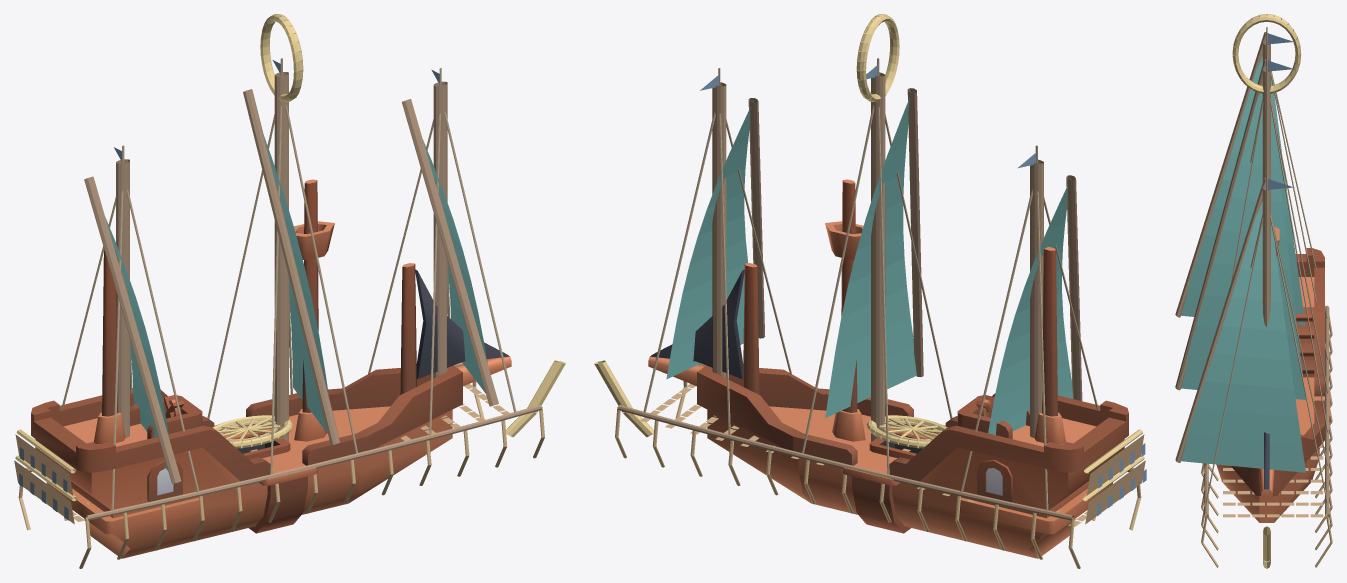
File: lemuria_scout-custom.glb
3 views of the same model, side by side, from view 1: azimuth 30°, elevation 25°; view 2: azimuth 150°, elevation 25°; view 3: azimuth 270°, elevation 25° (orthographic). The views are drawn at different scales.
Visible parts, largest first — view 1: ship-pirate-medium, lemuria_scout-custom-geometry; view 2: lemuria_scout-custom-geometry, ship-pirate-medium; view 3: lemuria_scout-custom-geometry, ship-pirate-medium.
Boxes of the visible parts, bbox=[...] form: ship-pirate-medium: bbox=[31, 179, 511, 558]; lemuria_scout-custom-geometry: bbox=[14, 14, 565, 568]; lemuria_scout-custom-geometry: bbox=[594, 14, 1146, 568]; ship-pirate-medium: bbox=[648, 179, 1128, 558]; lemuria_scout-custom-geometry: bbox=[1175, 14, 1332, 568]; ship-pirate-medium: bbox=[1216, 227, 1330, 522].
Bounding box in the file's own units: 38.82 × 35 × 10.74.
8 materials, 1 textured.
